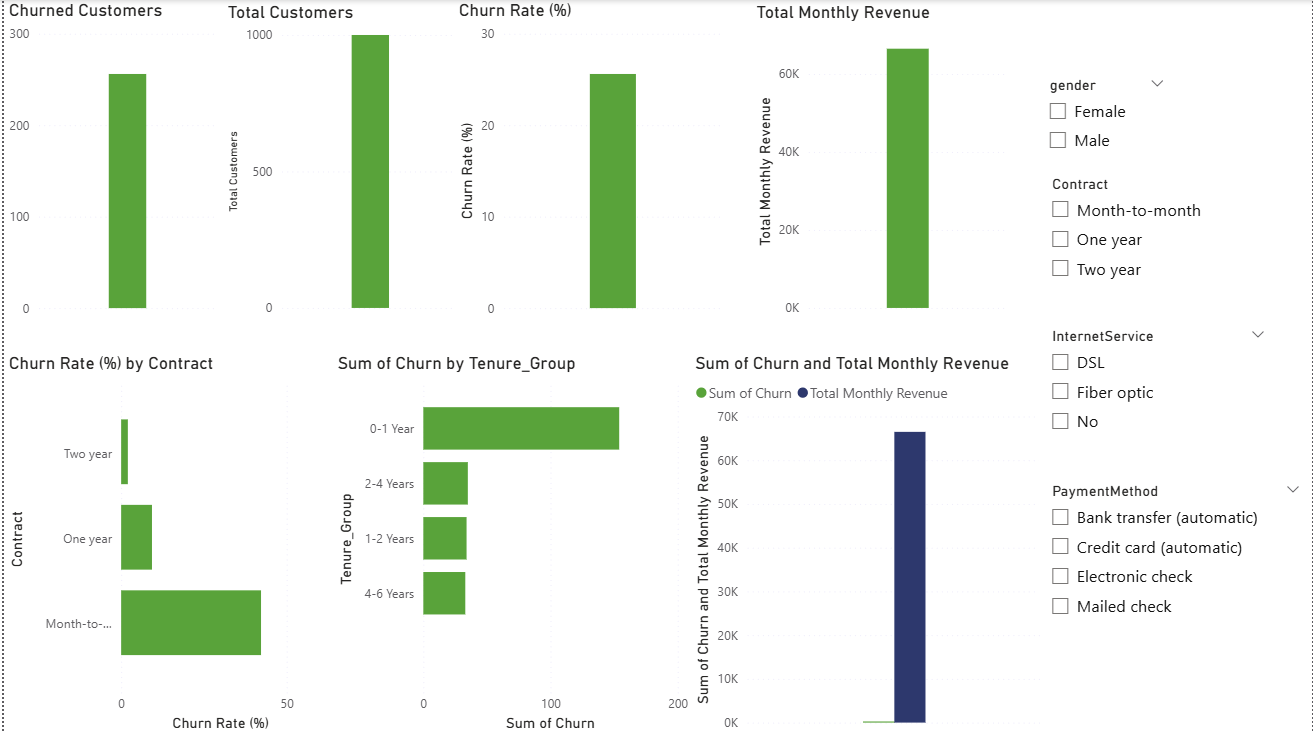

Layout of this report page (visuals, bound fields, positions):
{"tool":"powerbi","page":{"name":"Page 1","canvas":[1280,720],"ordinal":0},"visuals":[{"type":"clusteredColumnChart","fields":{"Y":["telco_churn_mysql1.Total Customers"]},"box":[214.1,1.4,237.4,314.2],"z":0},{"type":"clusteredColumnChart","fields":{"Y":["telco_churn_mysql1.Churned Customers"]},"box":[0,0,214.1,315.6],"z":1000},{"type":"clusteredColumnChart","fields":{"Y":["telco_churn_mysql1.Churn Rate (%)"]},"box":[440.5,0,269,315.6],"z":2000},{"type":"clusteredColumnChart","fields":{"Y":["telco_churn_mysql1.Total Monthly Revenue"]},"box":[731.4,1.4,256.6,314.2],"z":3000},{"type":"clusteredBarChart","fields":{"Y":["telco_churn_mysql1.Churn Rate (%)"],"Category":["telco_churn_mysql1.Contract"]},"box":[0,344.4,321.1,376],"z":4000},{"type":"clusteredBarChart","fields":{"Y":["Sum(telco_churn_mysql1.Churn)"],"Category":["telco_churn_mysql1.Tenure_Group"]},"box":[321.1,344.4,352.7,376],"z":5000},{"type":"clusteredColumnChart","fields":{"Y":["Sum(telco_churn_mysql1.Churn)","telco_churn_mysql1.Total Monthly Revenue"]},"box":[671,344.4,351.3,376],"z":6000},{"type":"slicer","fields":{"Values":["telco_churn_mysql1.gender"]},"box":[1010,70,137.2,87.8],"z":6001},{"type":"slicer","fields":{"Values":["telco_churn_mysql1.Contract"]},"box":[1012.7,166,204.5,149.6],"z":6002},{"type":"slicer","fields":{"Values":["telco_churn_mysql1.InternetService"]},"box":[1012.7,315.6,233.3,150.9],"z":6003},{"type":"slicer","fields":{"Values":["telco_churn_mysql1.PaymentMethod"]},"box":[1012.7,466.6,267.6,150.9],"z":6004}]}

Visuals, with their boxes in screenshot pixels (x1, y1, x2, y2), scaled from the page's 1280x720 canvas onto the 1313x733 screenshot:
clusteredColumnChart - telco_churn_mysql1.Total Customers: region(220, 1, 463, 321)
clusteredColumnChart - telco_churn_mysql1.Churned Customers: region(0, 0, 220, 321)
clusteredColumnChart - telco_churn_mysql1.Churn Rate (%): region(452, 0, 728, 321)
clusteredColumnChart - telco_churn_mysql1.Total Monthly Revenue: region(750, 1, 1013, 321)
clusteredBarChart - telco_churn_mysql1.Churn Rate (%) x telco_churn_mysql1.Contract: region(0, 351, 329, 732)
clusteredBarChart - Sum(telco_churn_mysql1.Churn) x telco_churn_mysql1.Tenure_Group: region(329, 351, 691, 732)
clusteredColumnChart - Sum(telco_churn_mysql1.Churn) x telco_churn_mysql1.Total Monthly Revenue: region(688, 351, 1049, 732)
slicer - telco_churn_mysql1.gender: region(1036, 71, 1177, 161)
slicer - telco_churn_mysql1.Contract: region(1039, 169, 1249, 321)
slicer - telco_churn_mysql1.InternetService: region(1039, 321, 1278, 475)
slicer - telco_churn_mysql1.PaymentMethod: region(1039, 475, 1312, 629)
